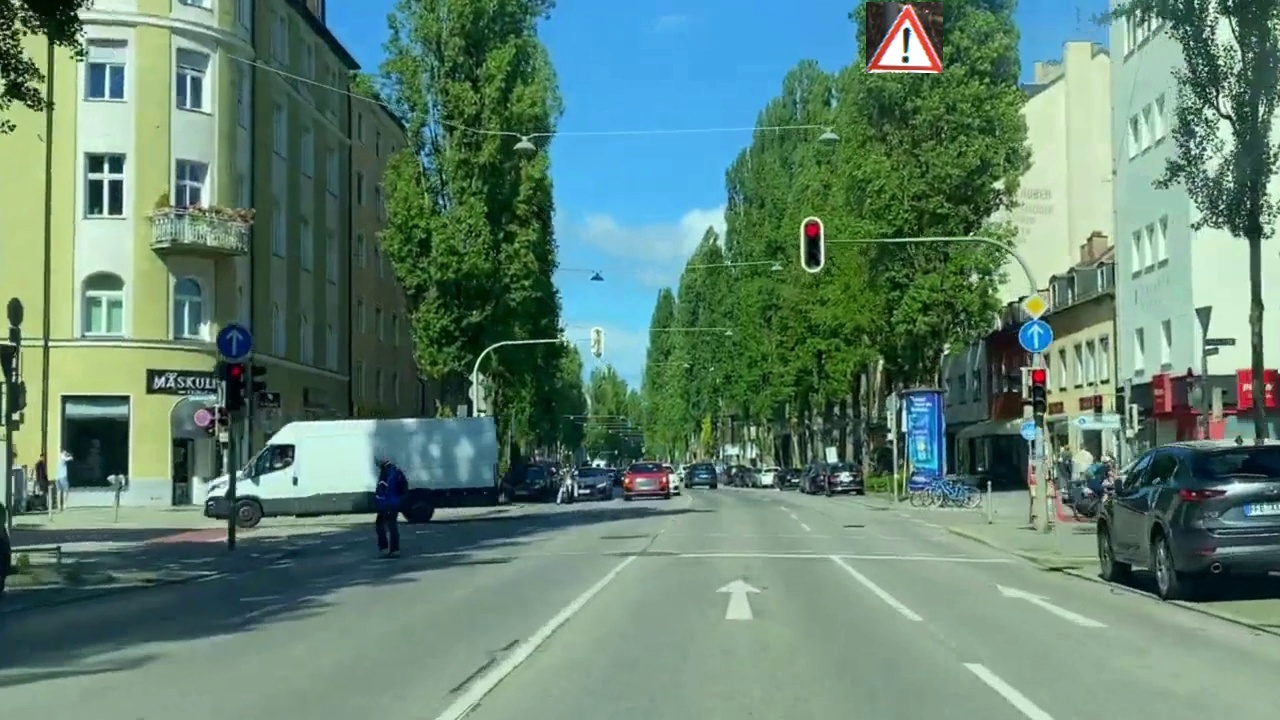Caution: (866, 2, 943, 73)
